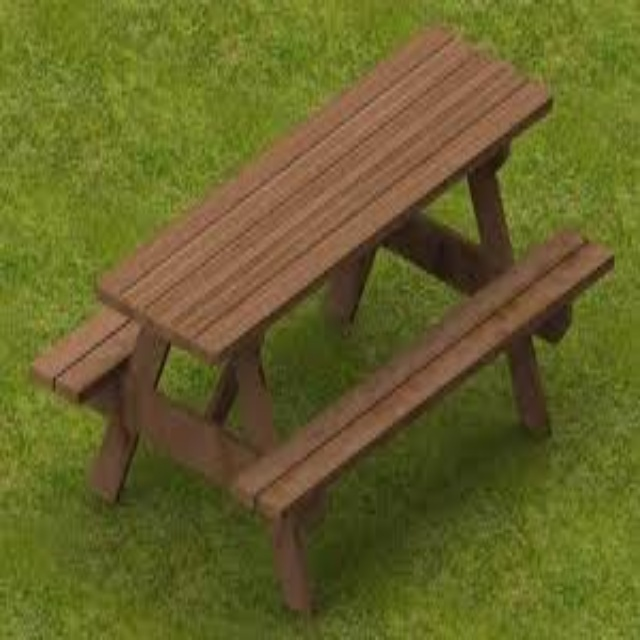obstacle: (21, 30, 621, 613)
